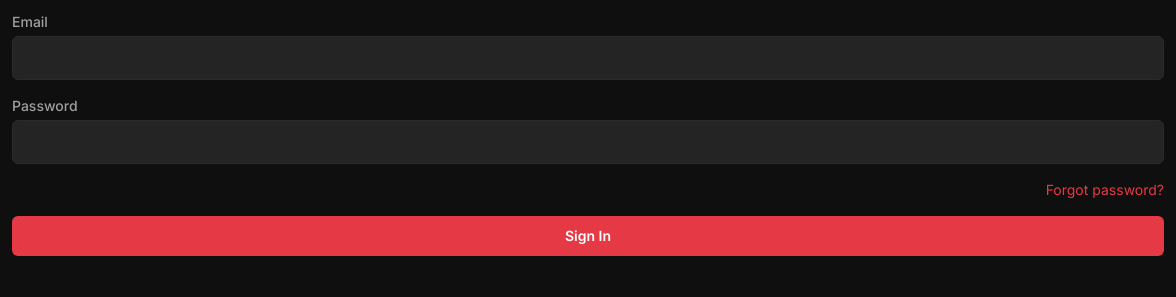
Test: LoginForm › shows validation error for invalid email via zod resolver
Type "bad" into the field labelled "Email". click: (588, 58)
box: [12, 36, 1164, 80]
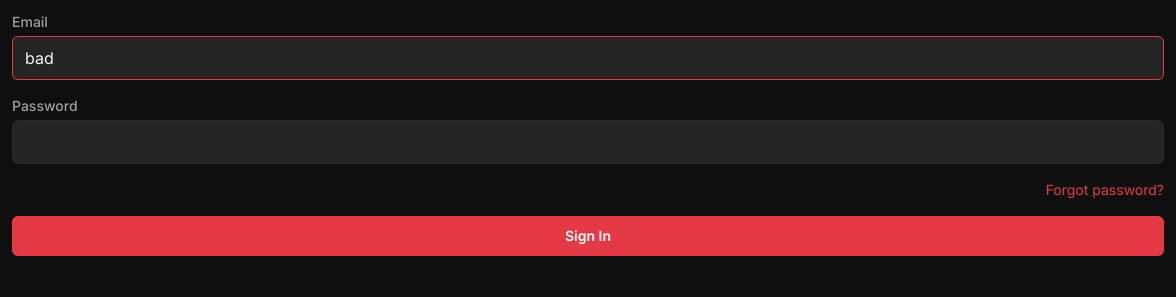
Clear the field labelled "Email". click: (588, 58)
box: [12, 36, 1164, 80]
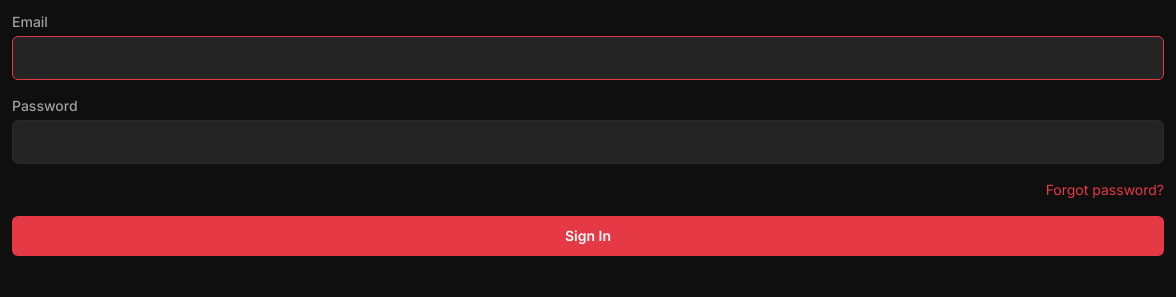
Type "password123" into the password field labelled "Password". click: (588, 142)
box: [12, 120, 1164, 164]
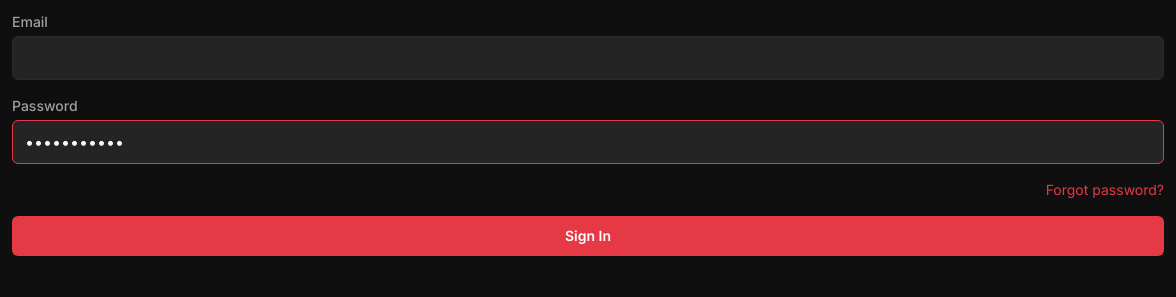
Submit the form "Email Password Forgot password? Sign In"
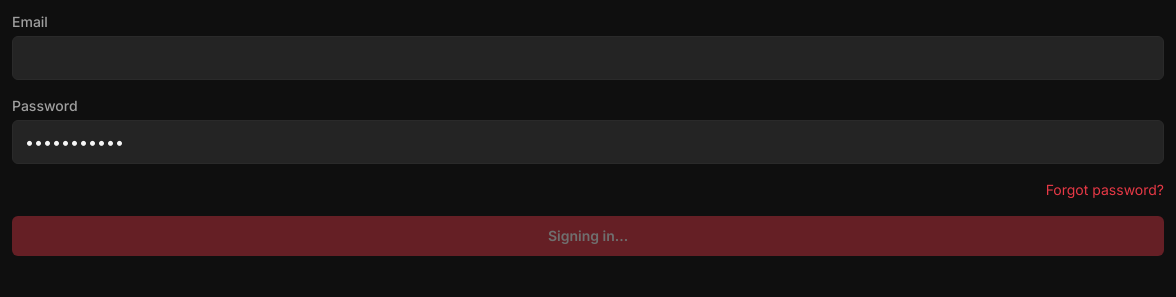
Type "password123" into the password field labelled "Password". click: (588, 142)
box: [12, 120, 1164, 164]
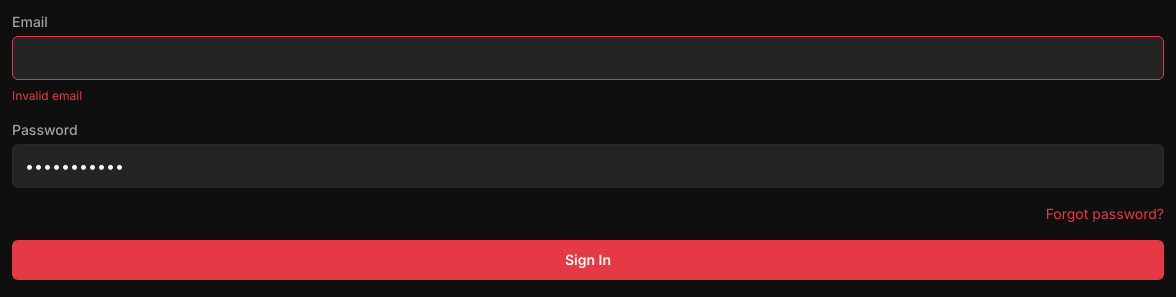
Expected: the text "Invalid email" is shown, [12, 88, 82, 103]
